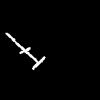double_crochet: (6, 33, 44, 69)
